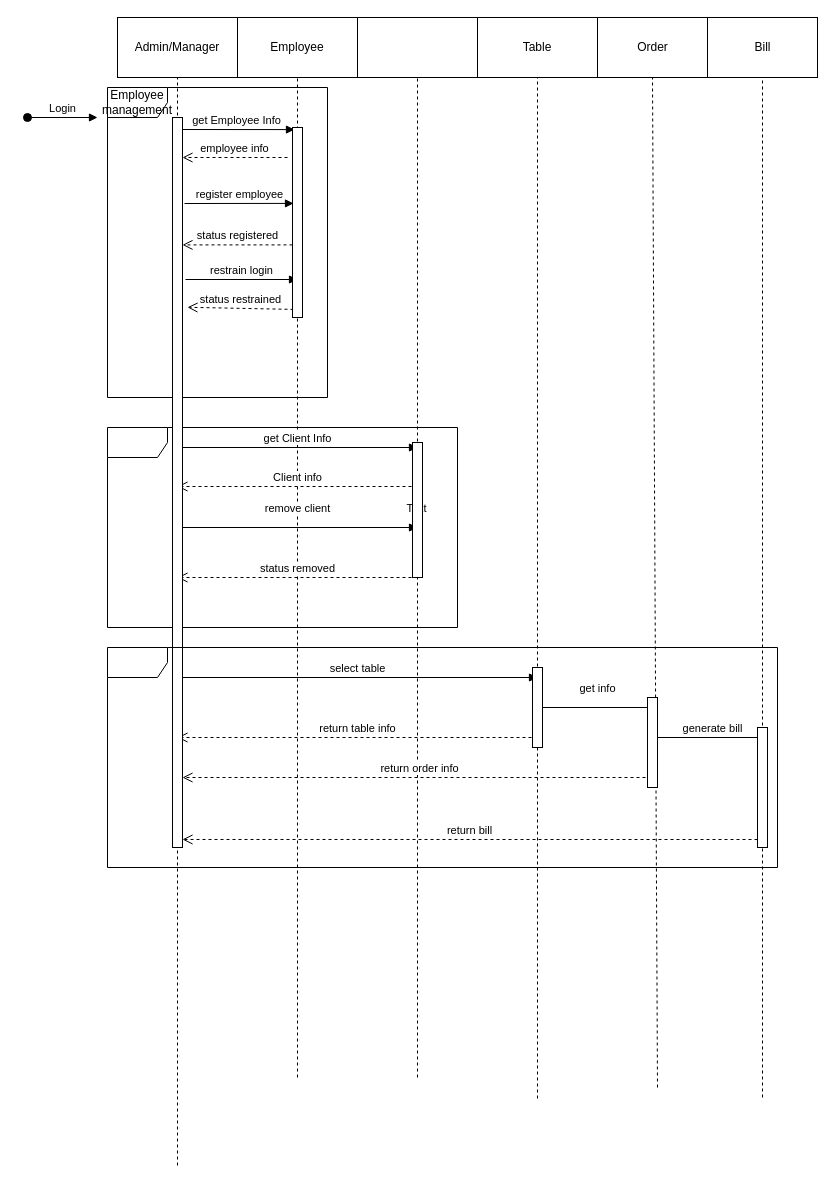
Some shapes in this 835 by 1184 pixel diagram are drawn without their labels. Here are the shapes that lost their labels. From the top down, the centre of each, then its label:
At (417,47): "Client".
At (282,527): "client management".
At (442,757): "order management".
